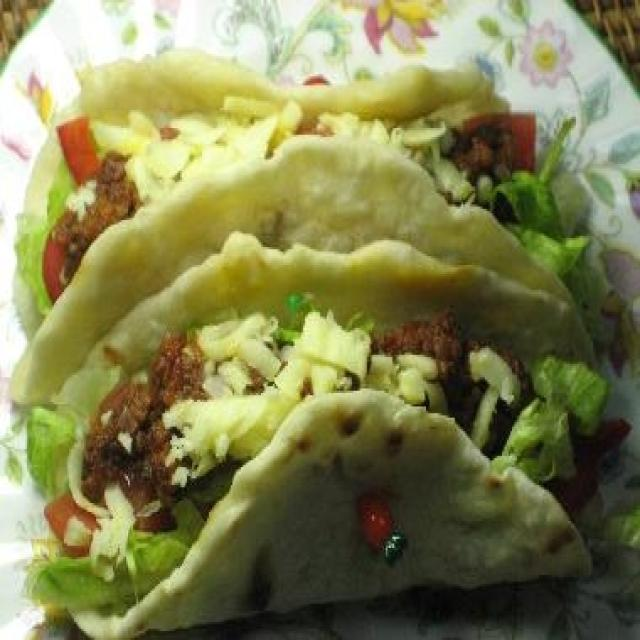面包点心: (26, 38, 622, 606)
